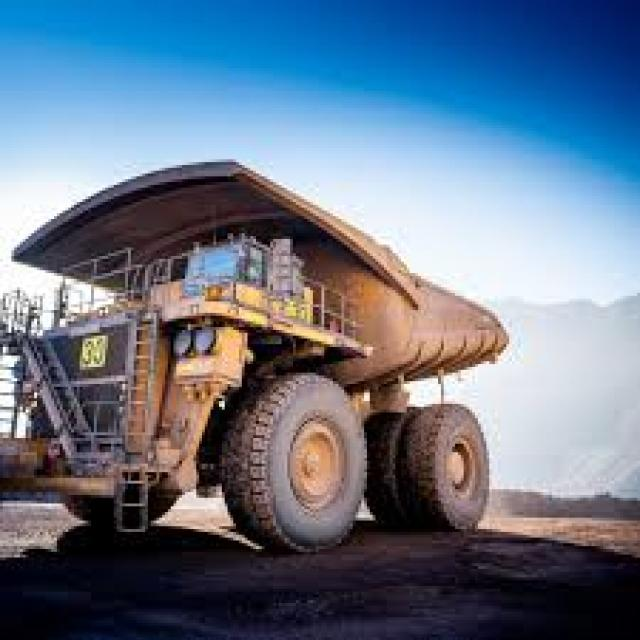dump_truck: (3, 134, 509, 546)
